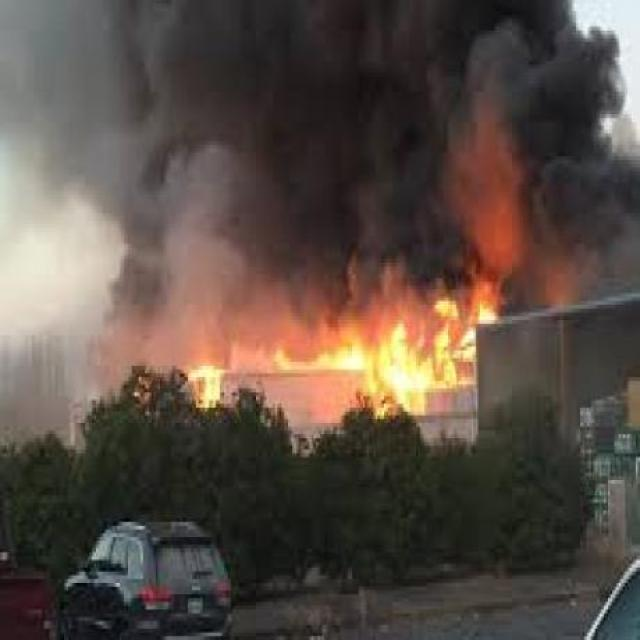Fire: (162, 310, 486, 424)
Smoke: (0, 2, 640, 306), (90, 308, 230, 367)
